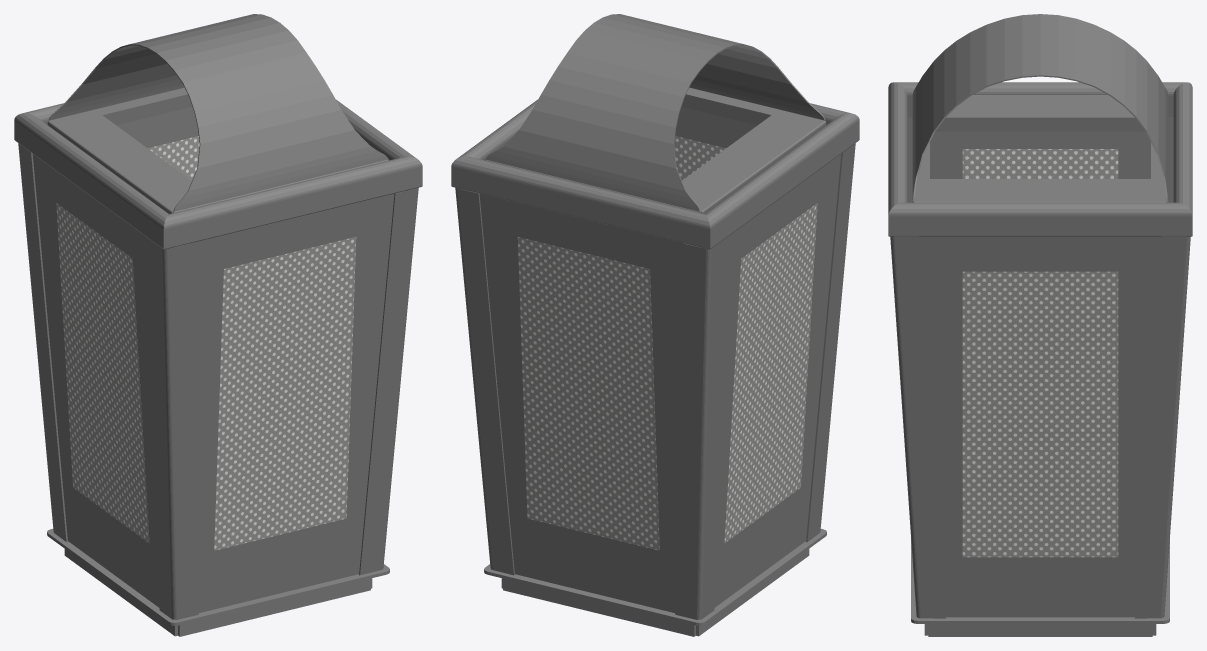
3 renders of one model, left to right at view 1: azimuth 30°, elevation 25°; view 2: azimuth 150°, elevation 25°; view 3: azimuth 270°, elevation 25°, orthographic.
Parts seen in each view (by area): view 1: mesh1.006_mesh1-geometry, mesh3.005_mesh3-geometry, mesh7.002_mesh7-geometry, mesh1.007_mesh1-geometry, mesh3.006_mesh3-geometry, mesh21.002_mesh21-geometry, mesh15.002_mesh15-geometry, mesh18.002_mesh18-geometry, mesh6.002_mesh6-geometry, mesh16.002_mesh16-geometry, mesh19.002_mesh19-geometry, mesh20.002_mesh20-geometry (+3 smaller); view 2: mesh1.005_mesh1-geometry, mesh3.008_mesh3-geometry, mesh7.002_mesh7-geometry, mesh1.007_mesh1-geometry, mesh3.006_mesh3-geometry, mesh21.002_mesh21-geometry, mesh16.002_mesh16-geometry, mesh17.002_mesh17-geometry, mesh6.002_mesh6-geometry, mesh15.002_mesh15-geometry, mesh19.002_mesh19-geometry, mesh20.002_mesh20-geometry (+3 smaller); view 3: mesh1.008_mesh1-geometry, mesh3.007_mesh3-geometry, mesh7.002_mesh7-geometry, mesh21.002_mesh21-geometry, mesh18.002_mesh18-geometry, mesh17.002_mesh17-geometry, mesh6.002_mesh6-geometry, mesh3.006_mesh3-geometry, mesh1.007_mesh1-geometry, mesh19.002_mesh19-geometry, mesh8.002_mesh8-geometry, mesh20.002_mesh20-geometry.
Part boxes in pixels (left/top/right/bottom): mesh1.006_mesh1-geometry: left=214, top=237, right=356, bottom=550; mesh3.005_mesh3-geometry: left=189, top=193, right=394, bottom=612; mesh7.002_mesh7-geometry: left=48, top=14, right=388, bottom=211; mesh1.007_mesh1-geometry: left=56, top=203, right=149, bottom=543; mesh3.006_mesh3-geometry: left=32, top=154, right=159, bottom=607; mesh21.002_mesh21-geometry: left=14, top=99, right=422, bottom=249; mesh15.002_mesh15-geometry: left=150, top=240, right=198, bottom=619; mesh18.002_mesh18-geometry: left=359, top=187, right=418, bottom=575; mesh6.002_mesh6-geometry: left=47, top=87, right=389, bottom=213; mesh16.002_mesh16-geometry: left=18, top=143, right=67, bottom=542; mesh19.002_mesh19-geometry: left=64, top=549, right=372, bottom=636; mesh20.002_mesh20-geometry: left=47, top=528, right=389, bottom=625; mesh1.005_mesh1-geometry: left=517, top=237, right=659, bottom=550; mesh3.008_mesh3-geometry: left=479, top=193, right=684, bottom=612; mesh7.002_mesh7-geometry: left=485, top=14, right=825, bottom=211; mesh1.007_mesh1-geometry: left=724, top=203, right=817, bottom=542; mesh3.006_mesh3-geometry: left=714, top=154, right=841, bottom=607; mesh21.002_mesh21-geometry: left=451, top=99, right=859, bottom=249; mesh16.002_mesh16-geometry: left=675, top=240, right=723, bottom=619; mesh17.002_mesh17-geometry: left=455, top=187, right=514, bottom=575; mesh6.002_mesh6-geometry: left=484, top=87, right=826, bottom=213; mesh15.002_mesh15-geometry: left=806, top=143, right=855, bottom=542; mesh19.002_mesh19-geometry: left=501, top=549, right=809, bottom=636; mesh20.002_mesh20-geometry: left=484, top=528, right=826, bottom=625; mesh1.008_mesh1-geometry: left=962, top=271, right=1118, bottom=557; mesh3.007_mesh3-geometry: left=919, top=236, right=1161, bottom=617; mesh7.002_mesh7-geometry: left=912, top=14, right=1168, bottom=201; mesh21.002_mesh21-geometry: left=888, top=82, right=1192, bottom=236; mesh18.002_mesh18-geometry: left=890, top=236, right=945, bottom=618; mesh17.002_mesh17-geometry: left=1135, top=236, right=1190, bottom=618; mesh6.002_mesh6-geometry: left=912, top=95, right=1168, bottom=202; mesh3.006_mesh3-geometry: left=910, top=117, right=1170, bottom=202; mesh1.007_mesh1-geometry: left=962, top=149, right=1118, bottom=178; mesh19.002_mesh19-geometry: left=924, top=624, right=1156, bottom=636; mesh8.002_mesh8-geometry: left=935, top=119, right=1145, bottom=131; mesh20.002_mesh20-geometry: left=911, top=539, right=1169, bottom=623.
Size of the model in its own units: 0.4122 by 0.8126 by 0.4122.
